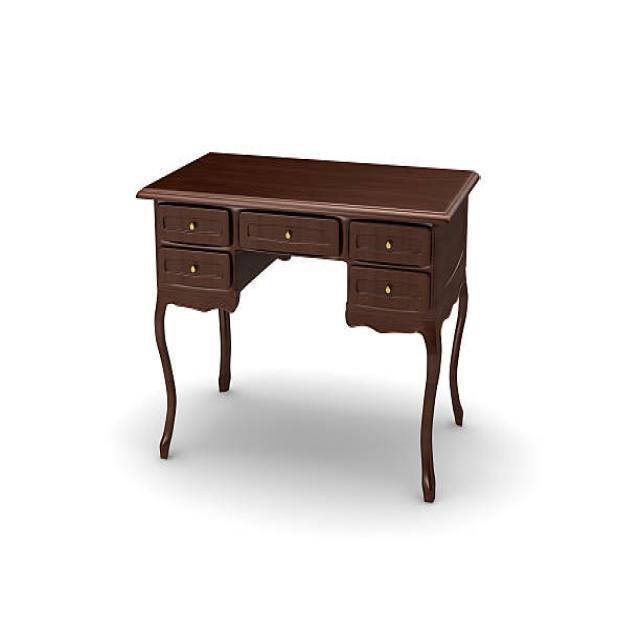table: (135, 150, 480, 503)
